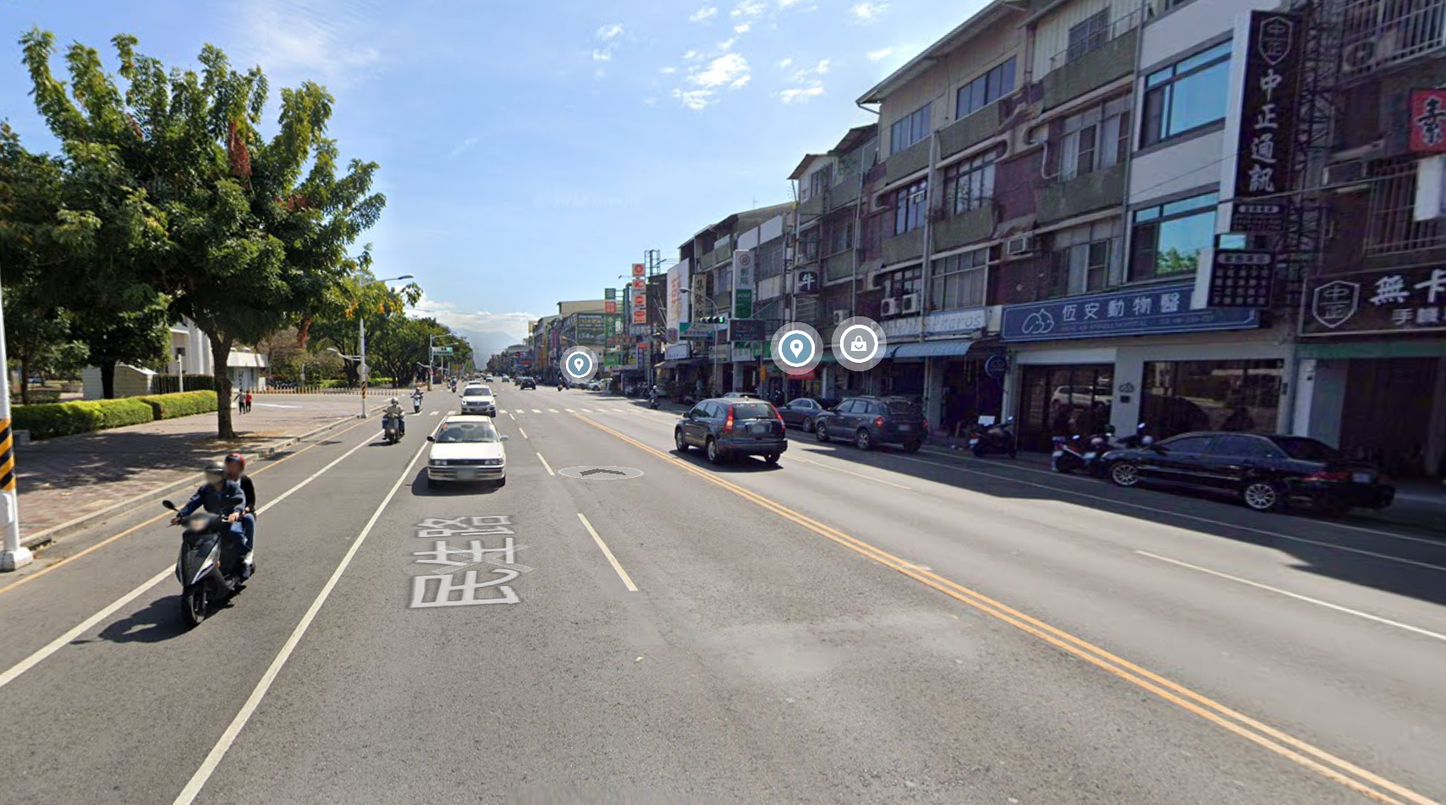green: (696, 311, 729, 330), (435, 339, 453, 357)
